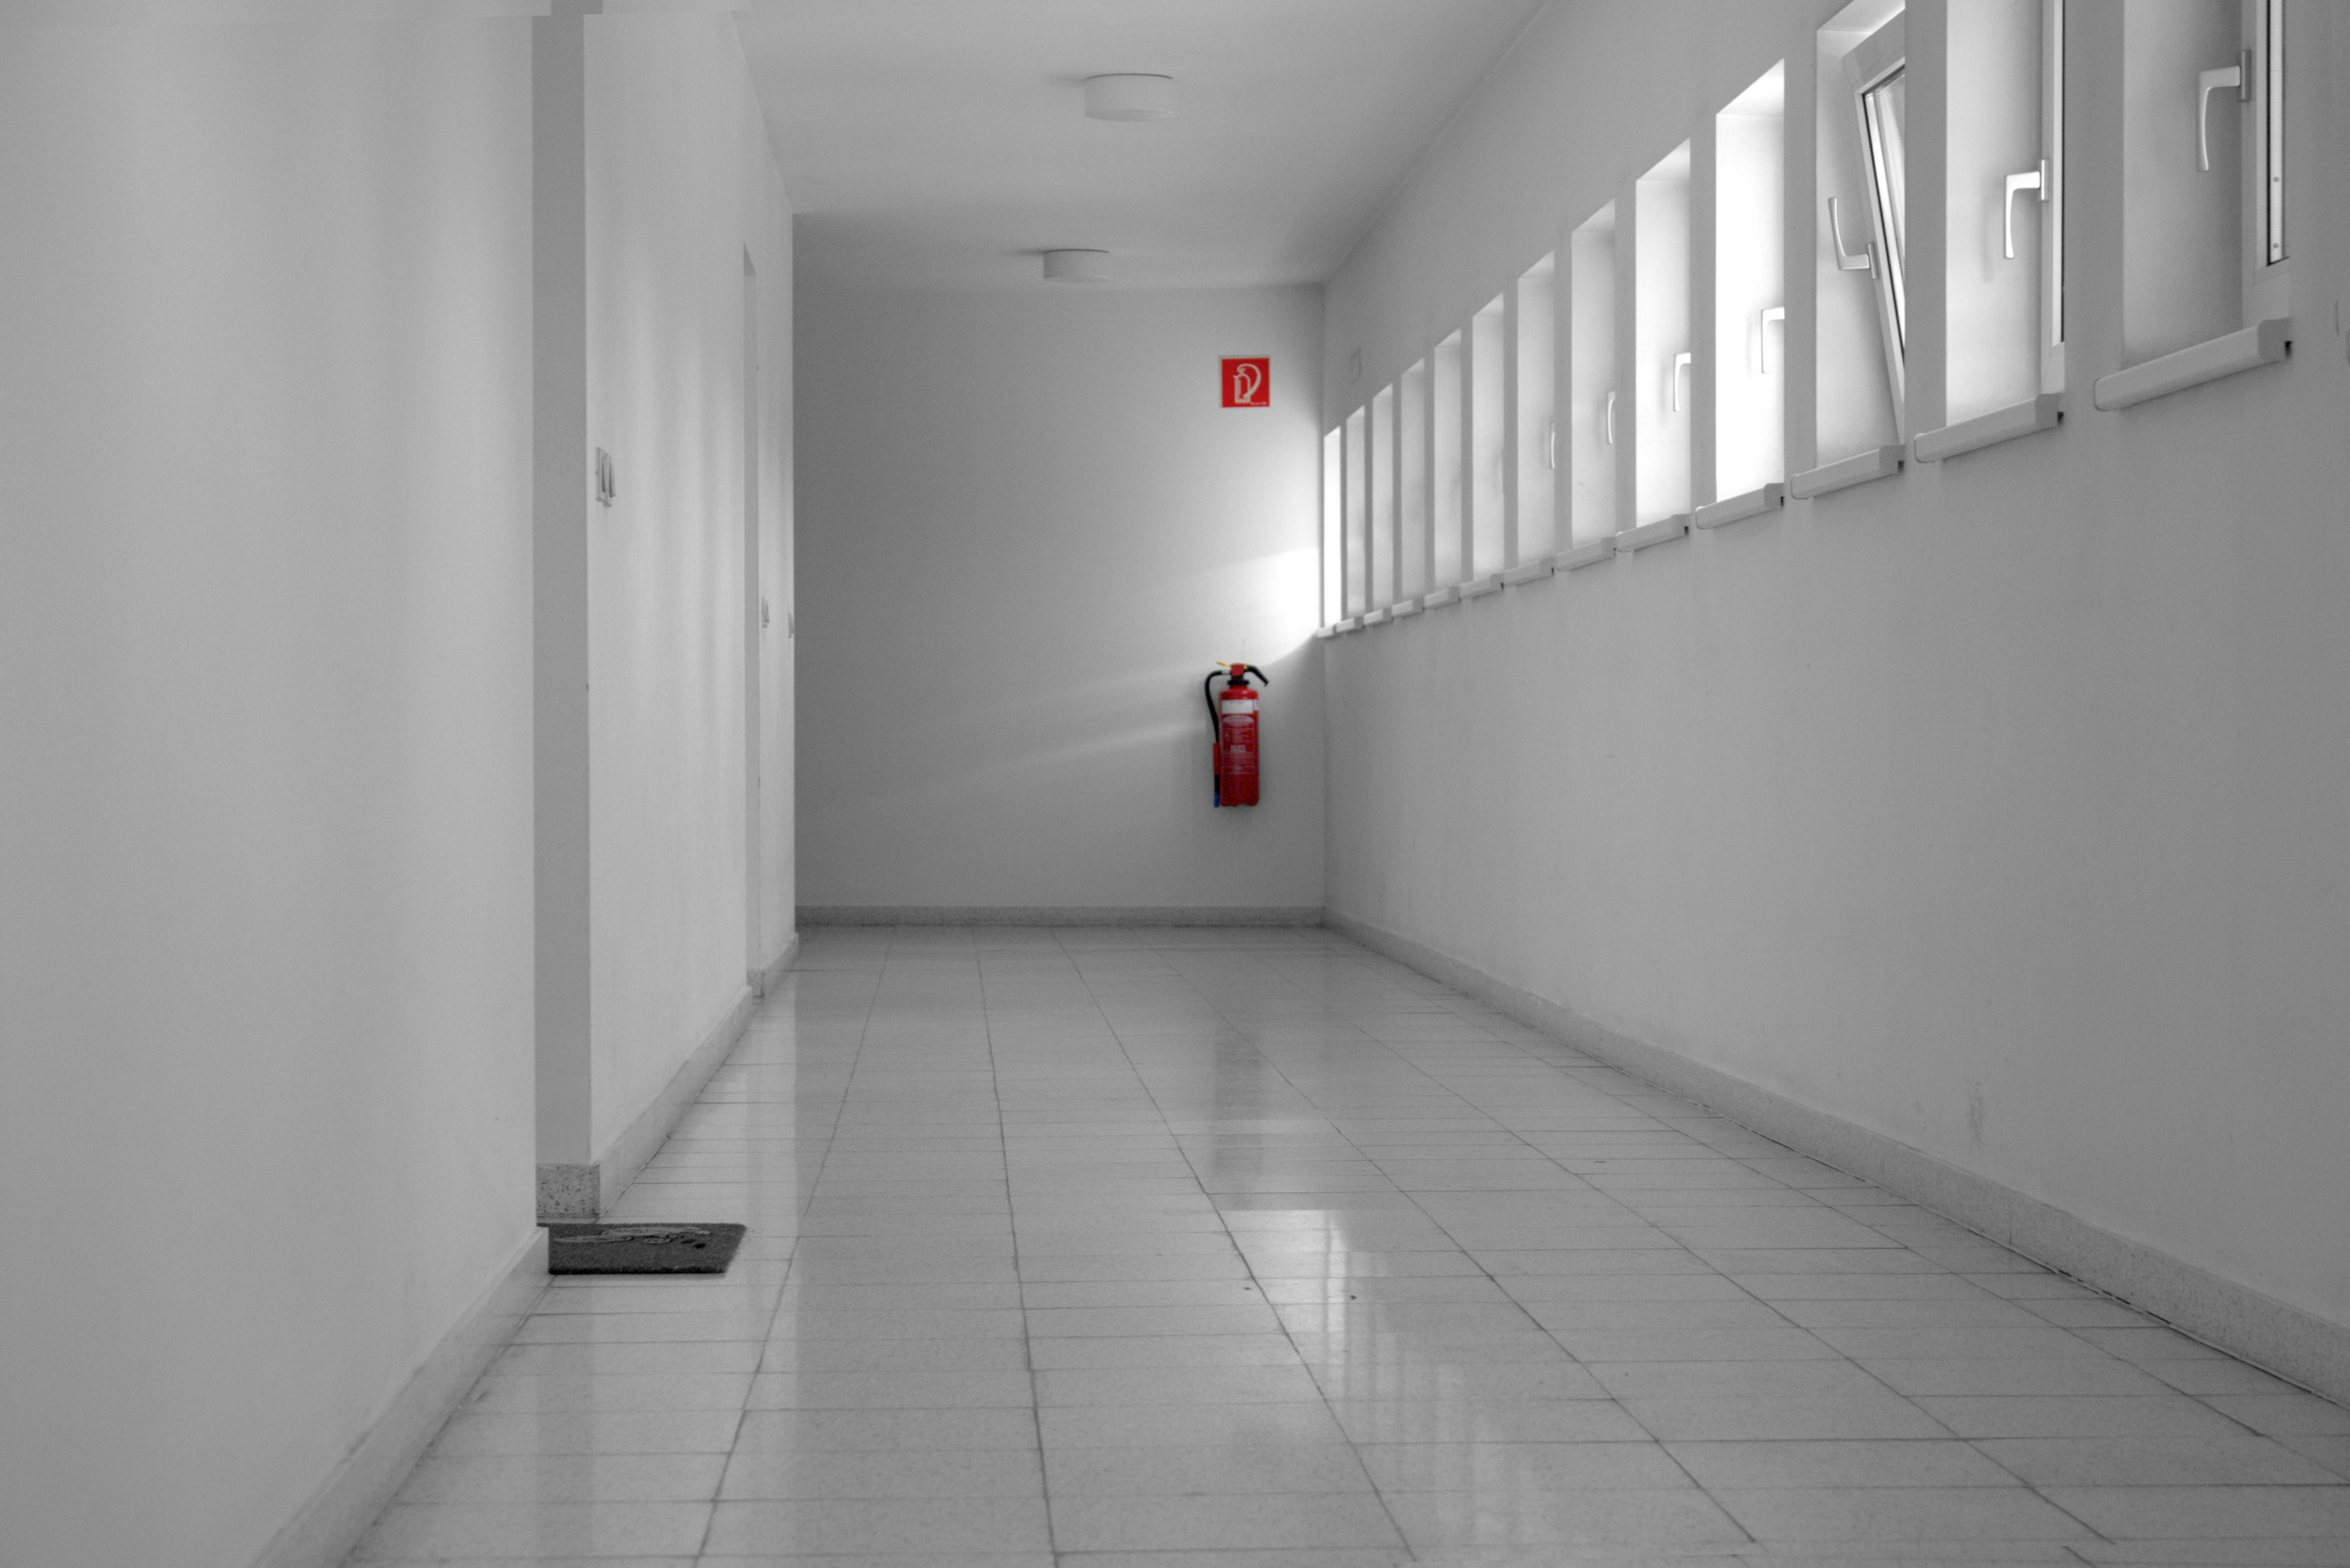extintor: (1190, 653, 1277, 817)
